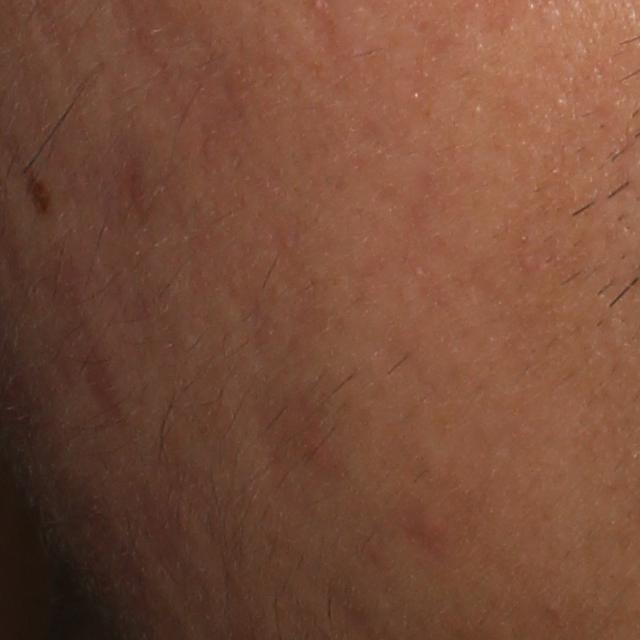nevus: (23, 166, 59, 221)
